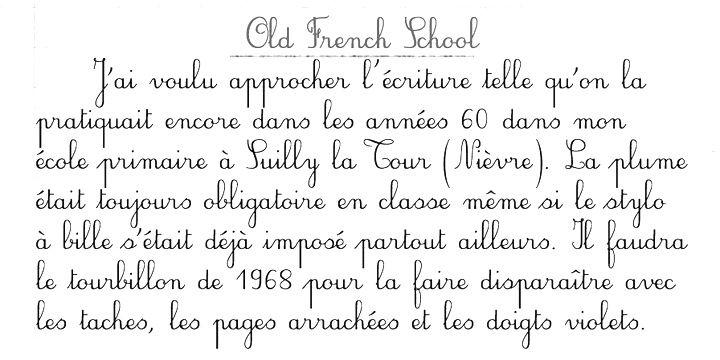text: (32, 258, 677, 312), (33, 136, 689, 189), (33, 177, 668, 230), (34, 218, 690, 269), (35, 298, 645, 352), (35, 96, 628, 149), (91, 56, 648, 109), (244, 14, 482, 52)
